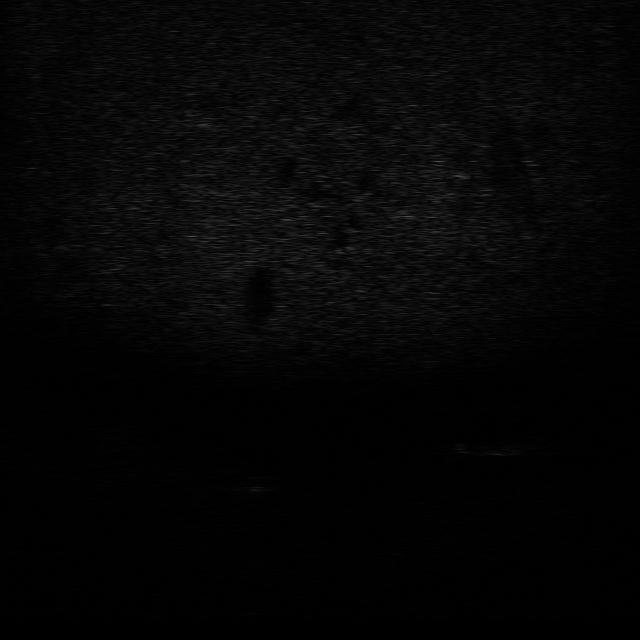ball: (231, 472, 281, 496)
human body: (438, 436, 558, 461)
